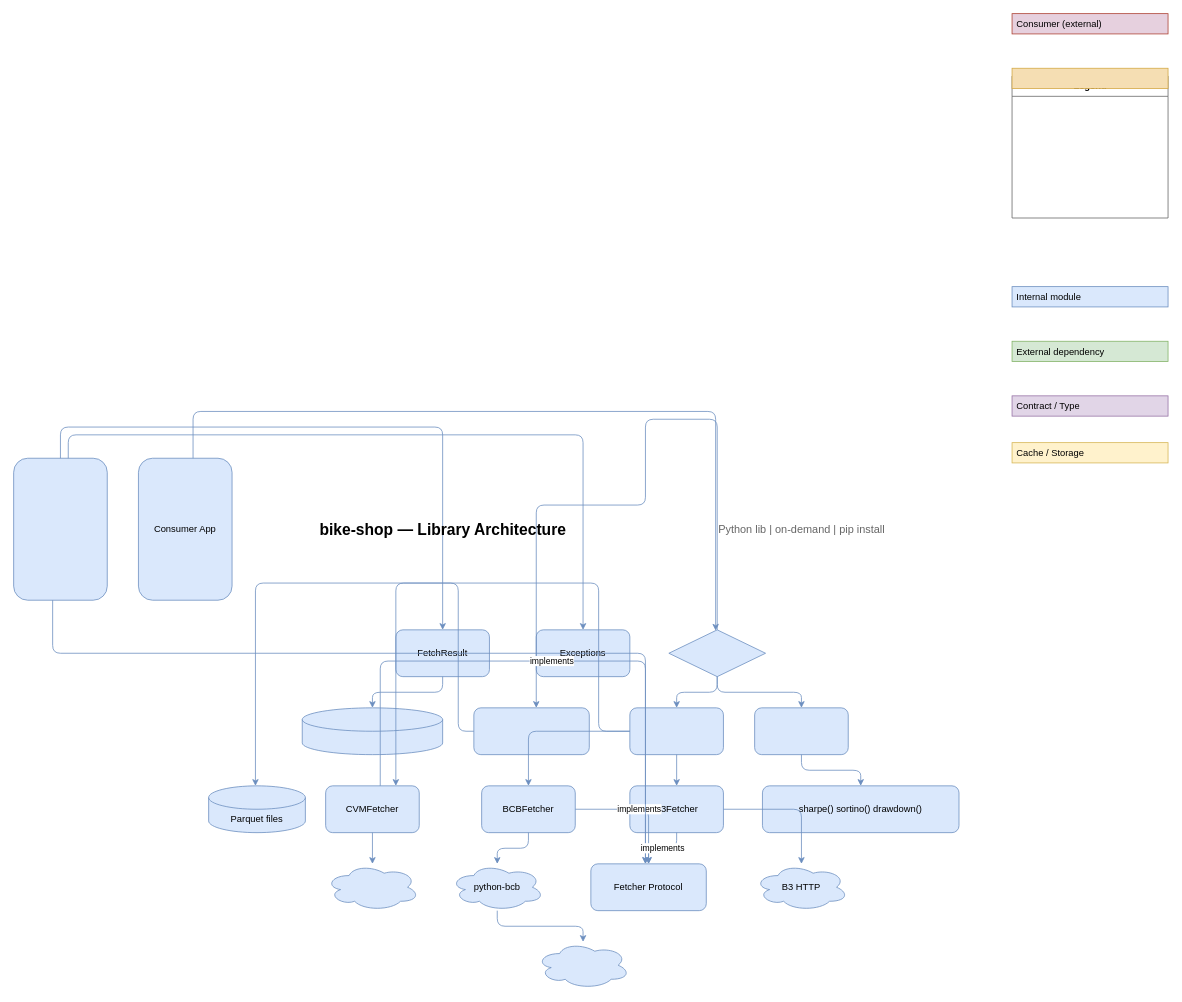
This 1182x1002 diagram has some shape labels left out. Each missing label, with the box of its shape:
BCB API: (535, 941, 630, 989)
bike_shop API: (668, 629, 766, 677)
cache (optional): (473, 707, 589, 755)
core: (13, 457, 107, 600)
CVM HTTP: (325, 863, 419, 911)
DataFrame + metadata: (301, 707, 443, 755)
Entry point / API: (1011, 67, 1168, 89)
fetchers: (629, 707, 723, 755)
metrics: (754, 707, 848, 755)
